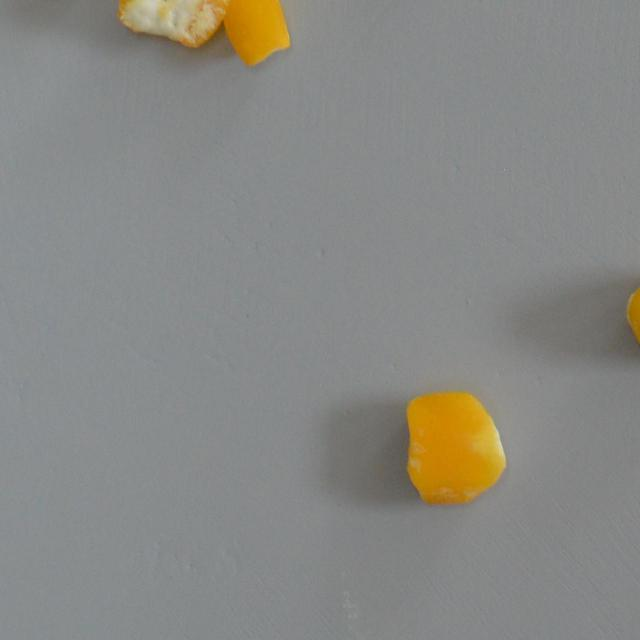dañado: (620, 266, 640, 364)
estandar: (218, 0, 290, 68)
pelicula: (402, 390, 508, 508)
punto_negro: (112, 0, 234, 49)
